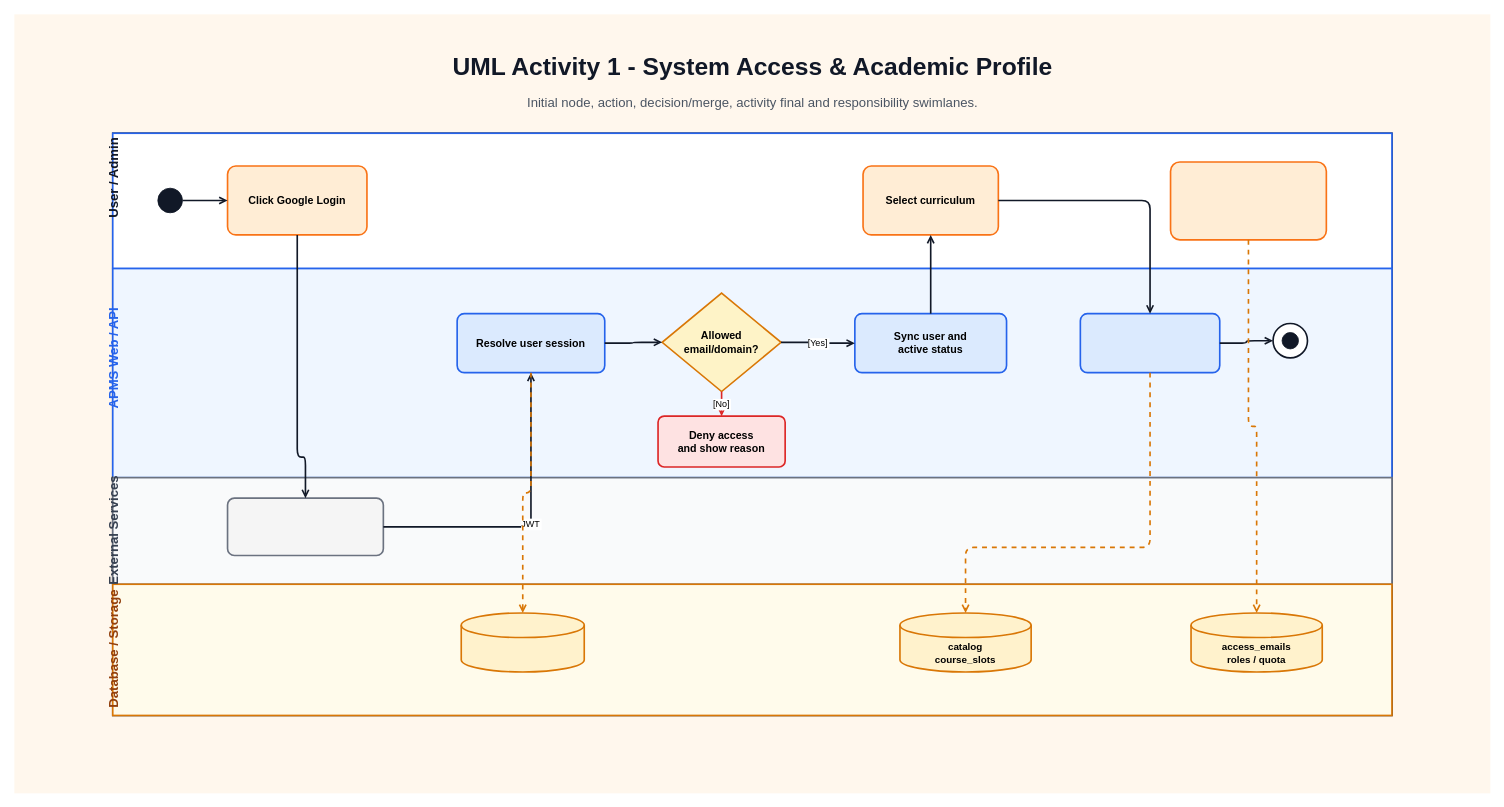
The diagram is 1504 pixels wide and 807 high, and some of its shapes have lost their labels. Here are the shapes that lost their labels. From the top down, the centre of each, then its label:
At pixel 1248 200: "Admin manages catalog, users, quotas and access emails".
At pixel 1149 342: "Save academic profile".
At pixel 305 526: "Google + Cognito authentication".
At pixel 522 642: "users".
